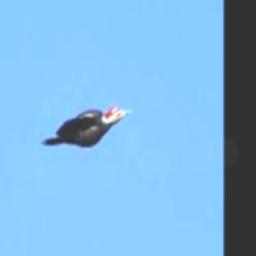Woodpecker: (42, 103, 131, 148)
